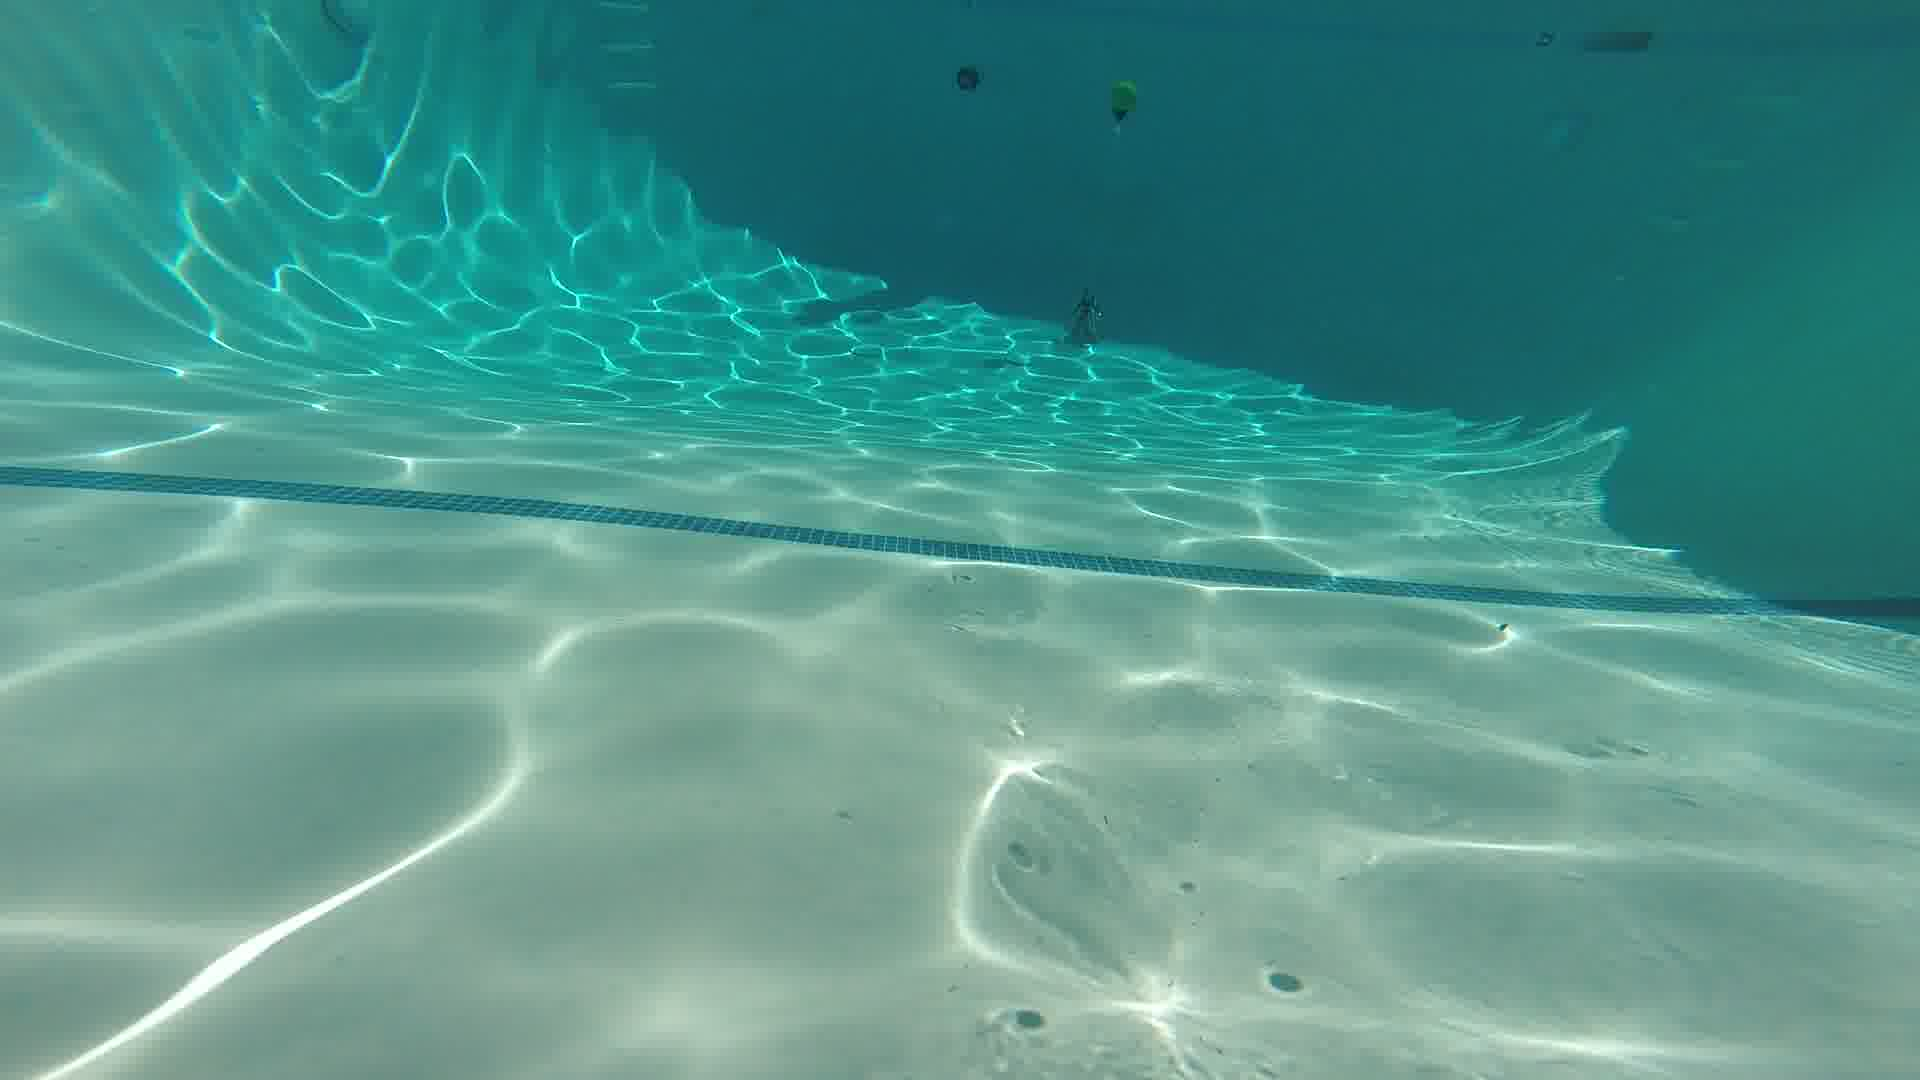yellow_buoy: (1102, 70, 1139, 138)
